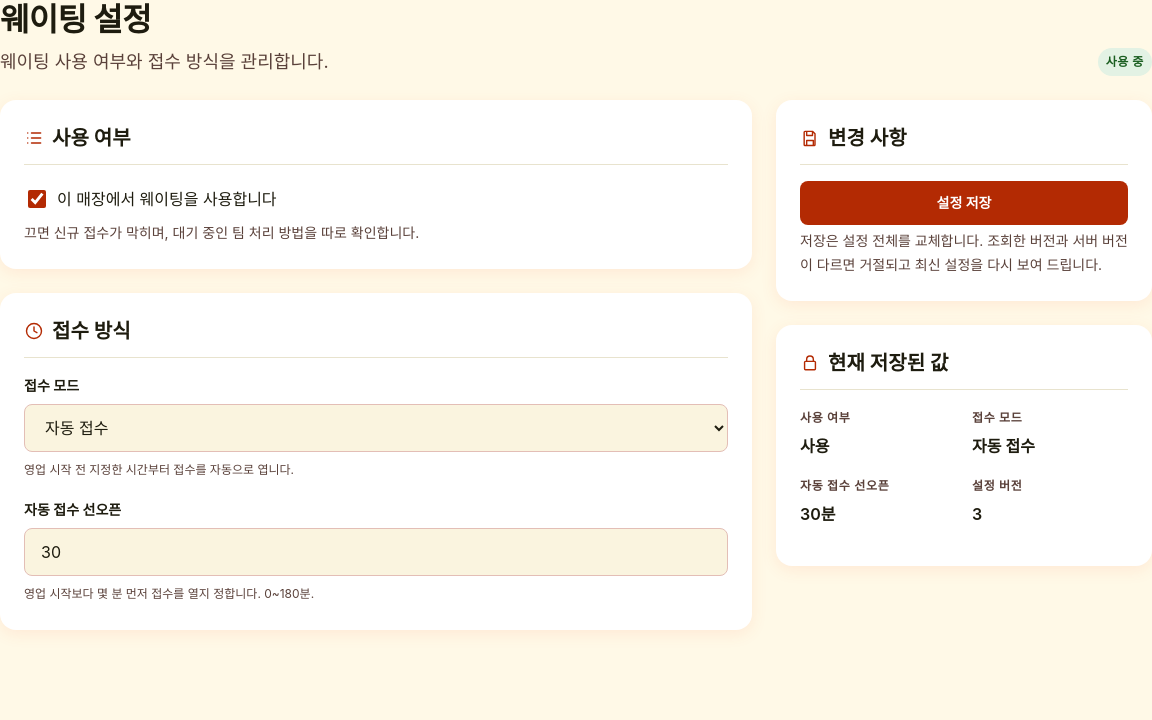
Test case: 웨이팅 설정 화면 › 끄는 변경은 영향을 확인하기 전에는 저장하지 않는다
Click the checkbox labelled "이 매장에서 웨이팅을 사용합니다".
click(37, 199)  # box [28,190,46,208]
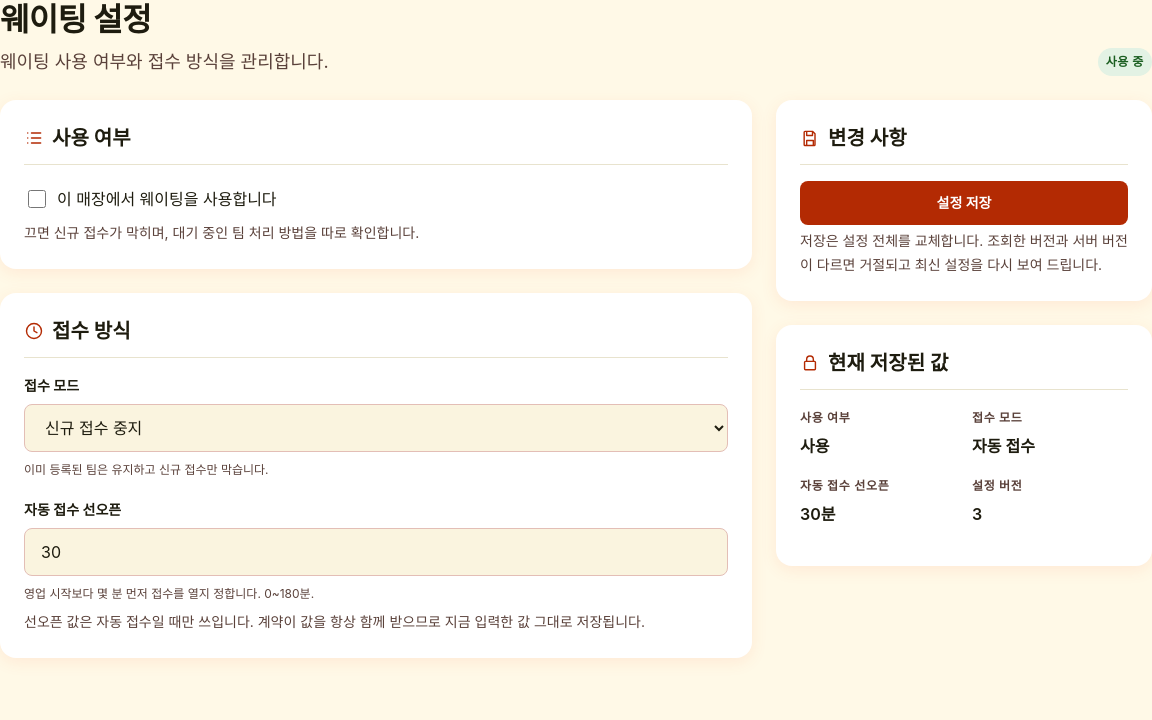
Click the button "설정 저장".
click(964, 203)  # box [800,181,1128,225]
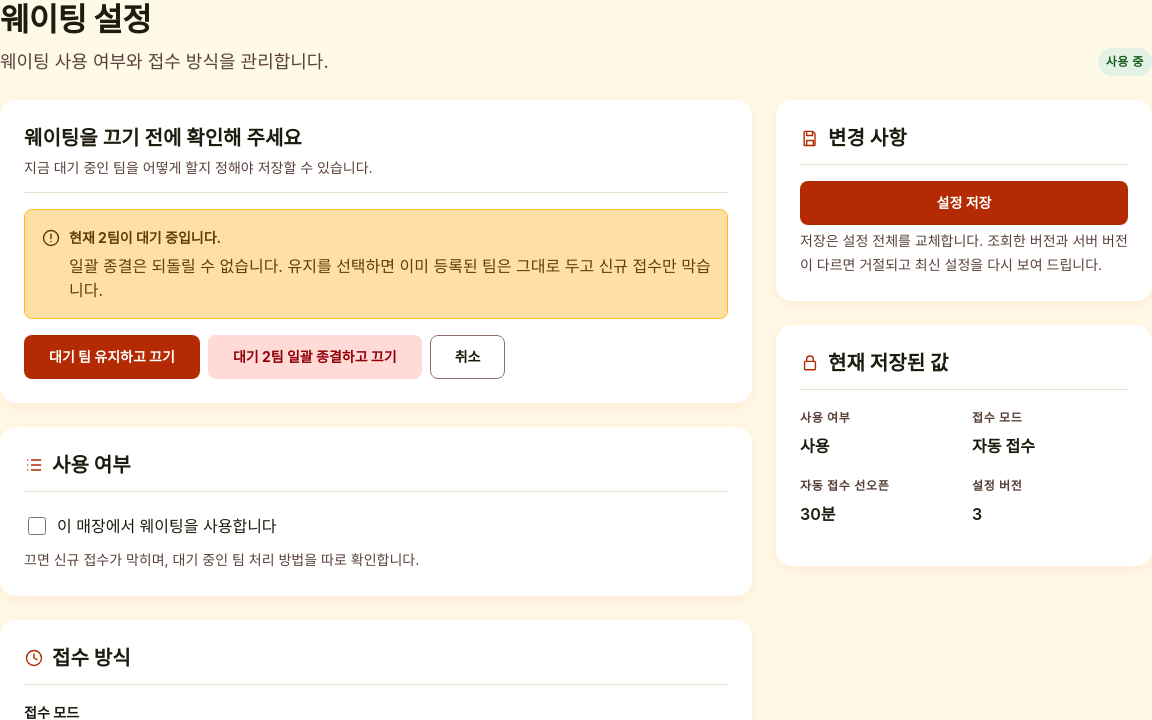
Check: the text "현재 2팀이 대기 중입니다." is shown, box [69,229,221,246]
